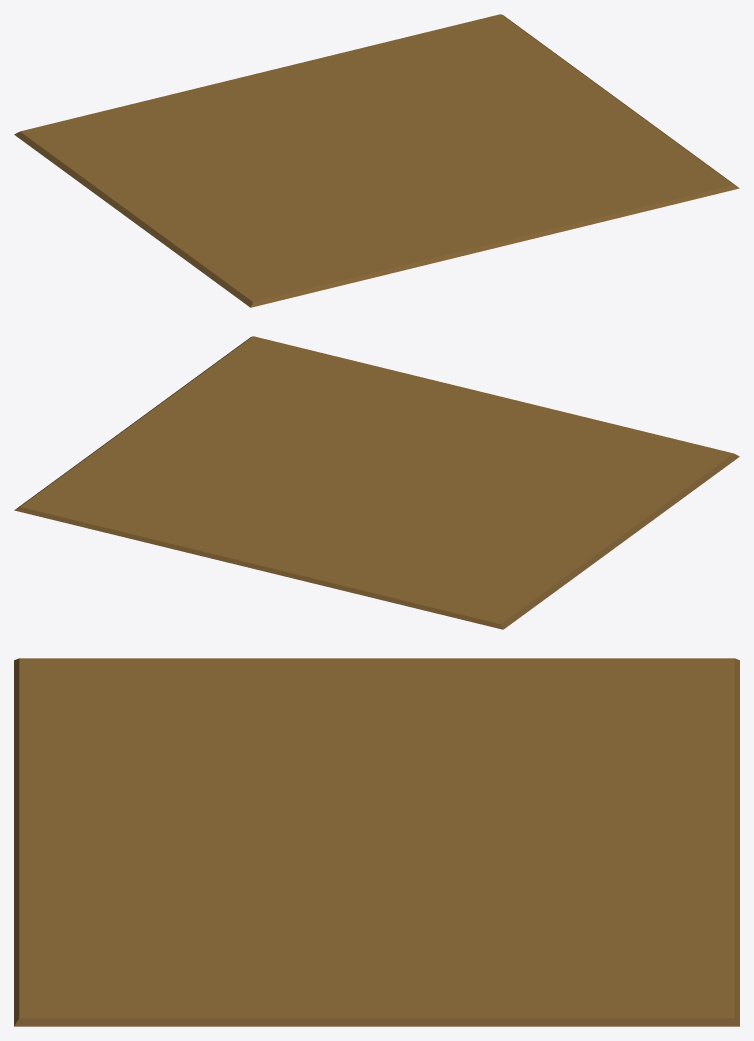
The model's file is SF_Env_FarmDirt_01.fbx.
3 renders of one model, top to bottom at view 1: azimuth 30°, elevation 25°; view 2: azimuth 150°, elevation 25°; view 3: azimuth 270°, elevation 25°, orthographic. The views are drawn at different scales.
Visible parts, largest first — view 1: SF_Env_FarmDirt_01; view 2: SF_Env_FarmDirt_01; view 3: SF_Env_FarmDirt_01.
Part boxes in pixels (bbox=[...]): SF_Env_FarmDirt_01: bbox=[14, 14, 739, 307]; SF_Env_FarmDirt_01: bbox=[14, 336, 739, 629]; SF_Env_FarmDirt_01: bbox=[14, 658, 739, 1026].
Size of the model in its own units: 12.97 by 0.0847 by 10.86.
